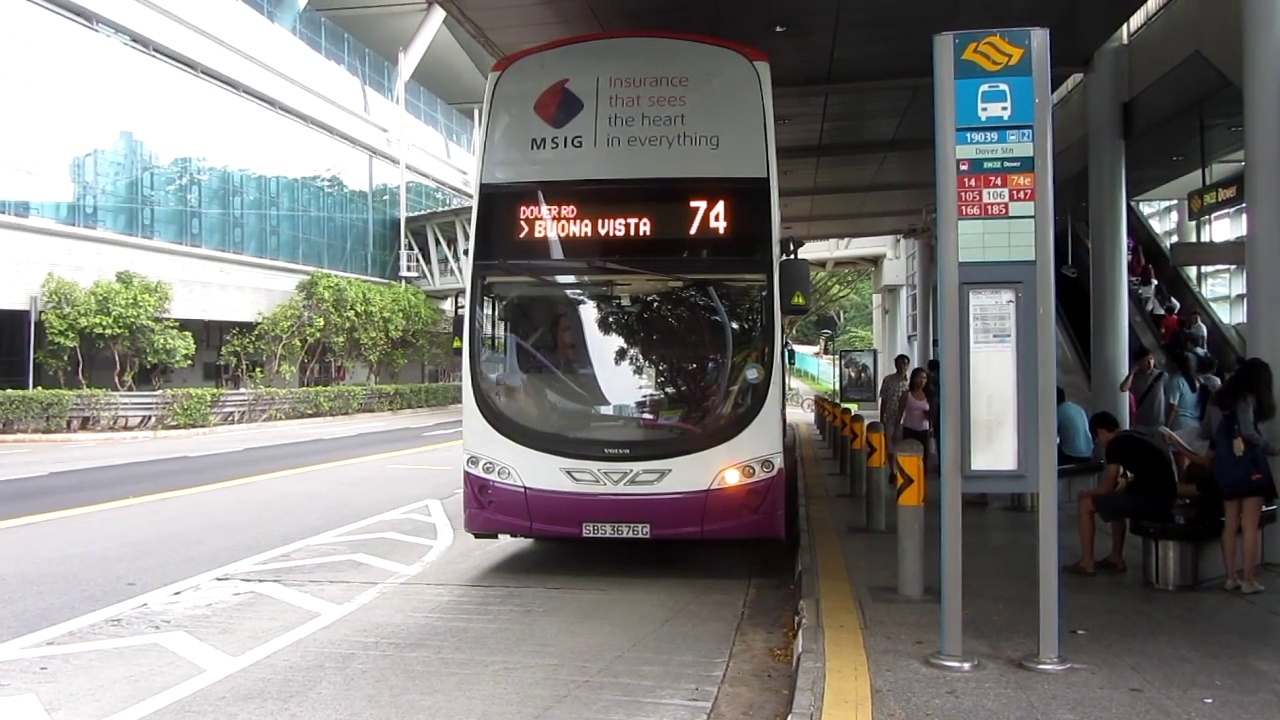bus panel: (511, 196, 733, 241)
